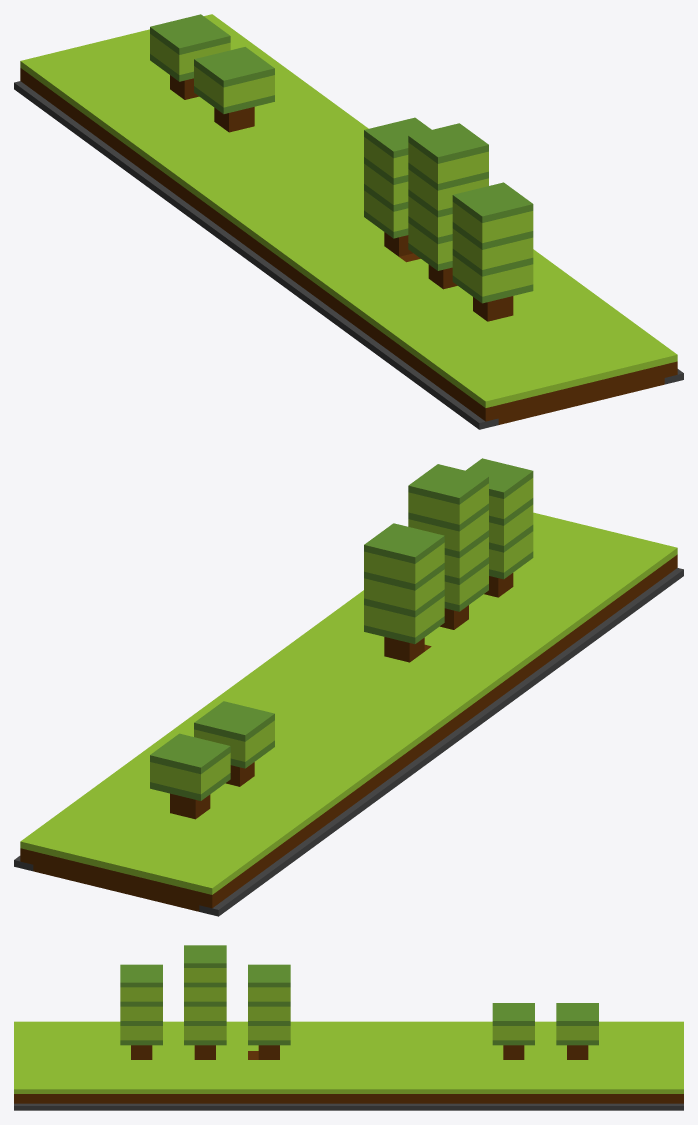
The model's file is median.obj.
The picture shows the model from 3 angles, top to bottom: view 1: azimuth 30°, elevation 25°; view 2: azimuth 150°, elevation 25°; view 3: azimuth 270°, elevation 25°; orthographic projection. The views are drawn at different scales.
Bounding box in the file's own units: 32 × 25 × 126.
Materials: 1 (1 with a texture image).
